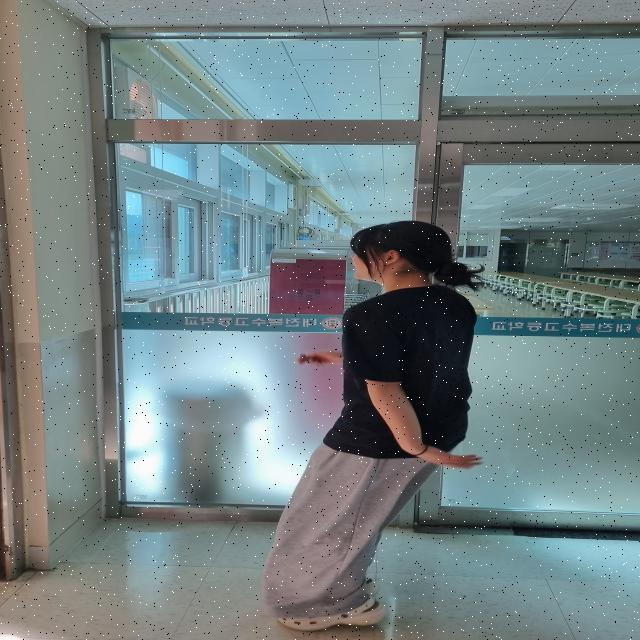logo: (319, 316, 343, 331)
